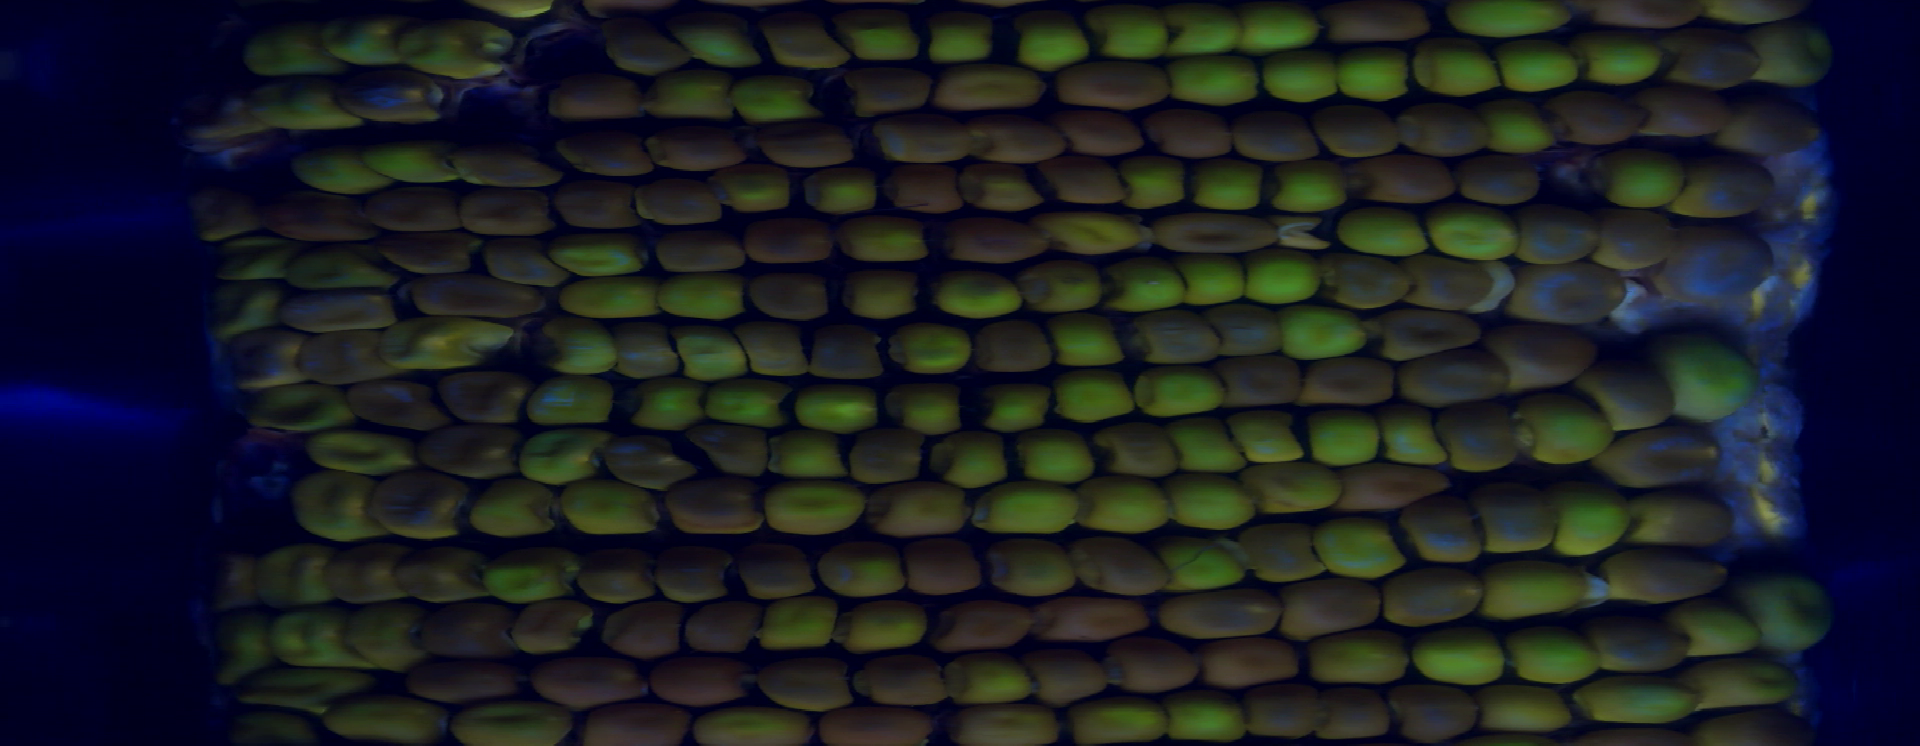fluorescent: (1658, 334, 1751, 424), (1491, 31, 1593, 100), (1573, 18, 1660, 97), (393, 17, 512, 73), (464, 479, 553, 552), (1389, 635, 1518, 684), (1747, 581, 1834, 653), (550, 481, 661, 537), (753, 481, 864, 537), (638, 272, 753, 323), (1445, 1, 1576, 45), (277, 149, 384, 202), (524, 376, 616, 437), (1518, 401, 1610, 462), (1573, 684, 1704, 726), (438, 699, 582, 737), (253, 85, 364, 134), (1310, 521, 1402, 579), (387, 317, 500, 365), (825, 533, 905, 600), (1307, 637, 1411, 688), (334, 691, 433, 745), (1512, 626, 1603, 685), (1468, 688, 1580, 736), (1420, 208, 1512, 265), (1482, 565, 1596, 610), (245, 387, 355, 434), (774, 385, 883, 431), (1016, 266, 1116, 316), (251, 673, 364, 717), (1187, 153, 1266, 214), (306, 472, 376, 541), (847, 263, 928, 323), (268, 610, 347, 671), (936, 69, 1041, 114), (257, 546, 331, 611), (1042, 375, 1139, 424), (1753, 27, 1831, 88), (305, 432, 409, 478), (1292, 414, 1379, 468), (1329, 209, 1434, 254), (696, 708, 825, 744), (1550, 494, 1629, 552), (989, 537, 1073, 592), (1228, 408, 1313, 462), (1276, 307, 1367, 358), (1053, 314, 1125, 376), (1018, 431, 1096, 489), (1084, 4, 1160, 62), (1690, 669, 1795, 710), (1070, 699, 1162, 746), (835, 214, 928, 260), (1163, 699, 1254, 746), (1161, 530, 1237, 586), (1403, 47, 1487, 97), (879, 491, 971, 537), (1138, 371, 1240, 412), (1374, 412, 1451, 465), (839, 598, 926, 646), (1251, 60, 1340, 107), (1250, 472, 1340, 517), (937, 269, 1024, 316), (1109, 260, 1189, 310), (724, 78, 819, 120), (1596, 156, 1680, 202), (522, 430, 598, 481), (773, 428, 845, 481), (211, 616, 276, 675), (756, 600, 831, 650), (1164, 9, 1244, 56), (561, 284, 658, 323), (1680, 608, 1753, 659), (962, 706, 1056, 746), (539, 321, 618, 367), (882, 323, 967, 366), (1262, 167, 1335, 217), (1171, 481, 1258, 523), (1168, 62, 1255, 104), (324, 10, 393, 62), (482, 555, 560, 601), (632, 383, 709, 430), (899, 381, 969, 432), (726, 167, 800, 214), (284, 249, 373, 288), (915, 13, 986, 62), (1060, 216, 1141, 258), (1127, 153, 1184, 213), (1179, 421, 1248, 472), (1484, 107, 1558, 153), (683, 331, 748, 383), (231, 704, 315, 745), (708, 387, 793, 426), (1332, 51, 1411, 94), (1239, 13, 1329, 50), (1244, 258, 1318, 303), (980, 497, 1076, 530), (1079, 488, 1166, 524), (803, 171, 876, 216), (976, 391, 1051, 432), (249, 34, 326, 73), (966, 646, 1022, 698), (680, 20, 744, 65), (212, 281, 269, 331), (560, 245, 654, 276), (1010, 21, 1084, 60), (373, 145, 444, 185), (218, 245, 289, 284), (842, 27, 921, 62), (658, 75, 732, 111), (962, 175, 1037, 209), (1183, 258, 1238, 303), (950, 439, 999, 485), (1696, 1, 1776, 23)
nonfluorescent: (1583, 356, 1687, 432), (1637, 488, 1741, 559), (1605, 546, 1731, 601), (1684, 156, 1789, 220), (1422, 404, 1518, 472), (1160, 588, 1286, 639), (344, 69, 457, 126), (1679, 234, 1774, 301), (1720, 98, 1832, 156), (1139, 213, 1280, 258), (1520, 262, 1626, 321), (1586, 617, 1690, 676), (409, 276, 547, 318), (1382, 570, 1487, 626), (1607, 436, 1720, 488), (1400, 507, 1495, 568), (744, 18, 855, 71), (516, 653, 639, 699), (1037, 158, 1129, 220), (662, 481, 756, 543), (940, 213, 1053, 263), (1335, 465, 1450, 514), (1498, 321, 1589, 382), (1403, 256, 1496, 316), (1118, 314, 1221, 367), (1116, 636, 1209, 695), (264, 183, 361, 239), (383, 472, 470, 534), (647, 655, 744, 710), (1280, 584, 1389, 633), (305, 330, 396, 388), (458, 187, 553, 243), (579, 698, 689, 746), (1071, 537, 1167, 592), (1704, 699, 1817, 746), (1404, 358, 1509, 408), (550, 134, 658, 181), (431, 376, 531, 426), (1326, 1, 1431, 49), (939, 601, 1038, 652), (1051, 592, 1155, 639), (1329, 254, 1411, 314), (350, 375, 441, 429), (1318, 685, 1402, 742), (1238, 521, 1326, 576), (422, 428, 529, 473), (1473, 499, 1562, 552), (1512, 205, 1587, 268), (364, 185, 463, 233), (568, 559, 650, 616), (905, 534, 986, 592), (1389, 684, 1477, 736), (1221, 360, 1308, 413), (822, 704, 940, 742), (418, 608, 512, 655), (1302, 360, 1396, 408), (1548, 97, 1644, 143), (1593, 209, 1676, 263), (1103, 418, 1180, 475), (855, 659, 953, 704), (1145, 110, 1228, 162), (1644, 92, 1728, 143), (867, 111, 964, 156), (1679, 37, 1760, 89), (1404, 105, 1483, 159), (1315, 104, 1397, 156), (638, 130, 738, 171), (954, 116, 1054, 158), (1060, 65, 1167, 104), (276, 294, 402, 327), (225, 333, 302, 387), (555, 181, 636, 233), (741, 272, 828, 320), (1455, 162, 1551, 205), (803, 330, 887, 379), (744, 224, 834, 269), (764, 126, 858, 169), (453, 149, 550, 191), (928, 75, 1037, 111), (680, 608, 754, 660), (631, 179, 715, 225), (1357, 159, 1453, 200), (696, 430, 771, 481), (971, 323, 1051, 372), (407, 548, 482, 598), (731, 552, 819, 595), (410, 665, 516, 701), (1206, 307, 1280, 358), (551, 82, 644, 121), (486, 239, 555, 292), (1058, 110, 1138, 156), (337, 552, 407, 604), (880, 163, 958, 209), (1229, 118, 1313, 160), (1386, 310, 1474, 350), (195, 97, 269, 143), (758, 663, 867, 695), (1199, 639, 1296, 675), (516, 601, 590, 647), (853, 432, 922, 481), (382, 236, 467, 274), (1596, 1, 1709, 29), (613, 446, 683, 491), (658, 555, 725, 601), (1251, 687, 1313, 737), (606, 29, 684, 69), (609, 612, 680, 655), (651, 236, 733, 273), (855, 71, 928, 111), (1035, 653, 1112, 691), (202, 555, 249, 605)
